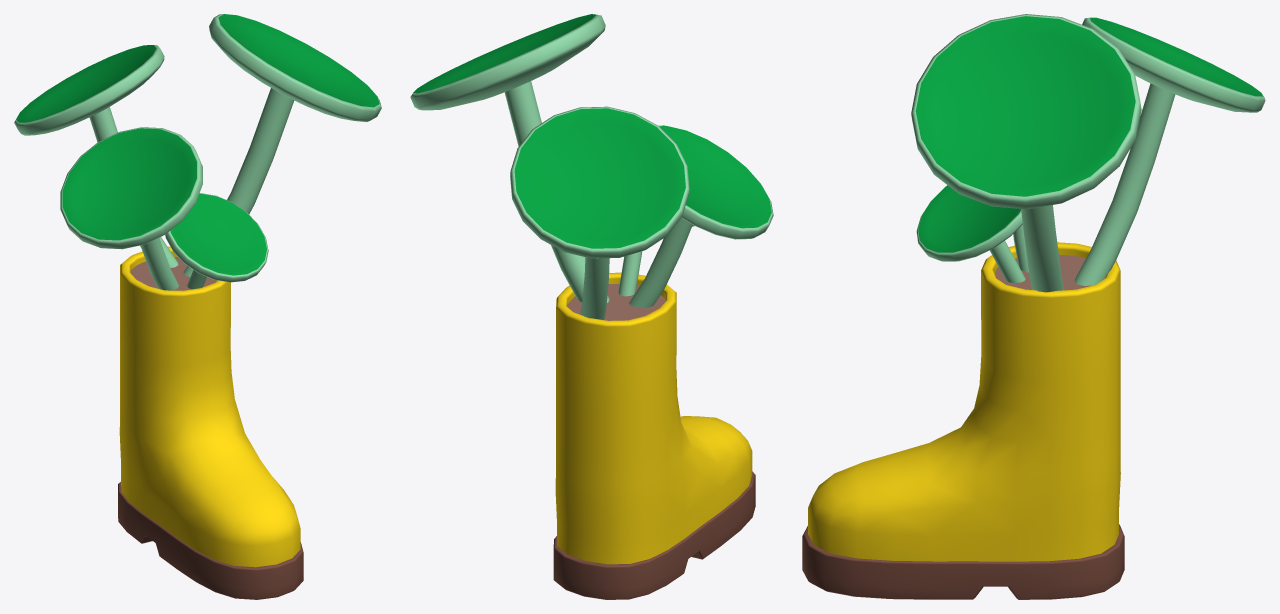
Rendered from Town_18_Plant_in_Boot_1.glb.
3 views of the same model, side by side, from view 1: azimuth 30°, elevation 25°; view 2: azimuth 150°, elevation 25°; view 3: azimuth 270°, elevation 25° (orthographic). The views are drawn at different scales.
Parts seen in each view (by area): view 1: Town_18_Plant_in_Boot_1; view 2: Town_18_Plant_in_Boot_1; view 3: Town_18_Plant_in_Boot_1.
Boxes of the visible parts, left/top/right/bottom form: Town_18_Plant_in_Boot_1: left=14, top=14, right=381, bottom=599; Town_18_Plant_in_Boot_1: left=410, top=14, right=773, bottom=599; Town_18_Plant_in_Boot_1: left=802, top=14, right=1265, bottom=599.
Size of the model in its own units: 0.7024 by 1.07 by 0.7722.
1 material, 1 textured.
